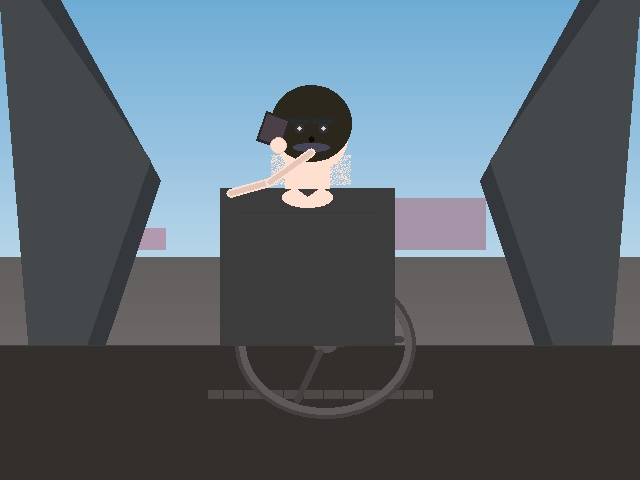phone_usage: (253, 106, 294, 153)
